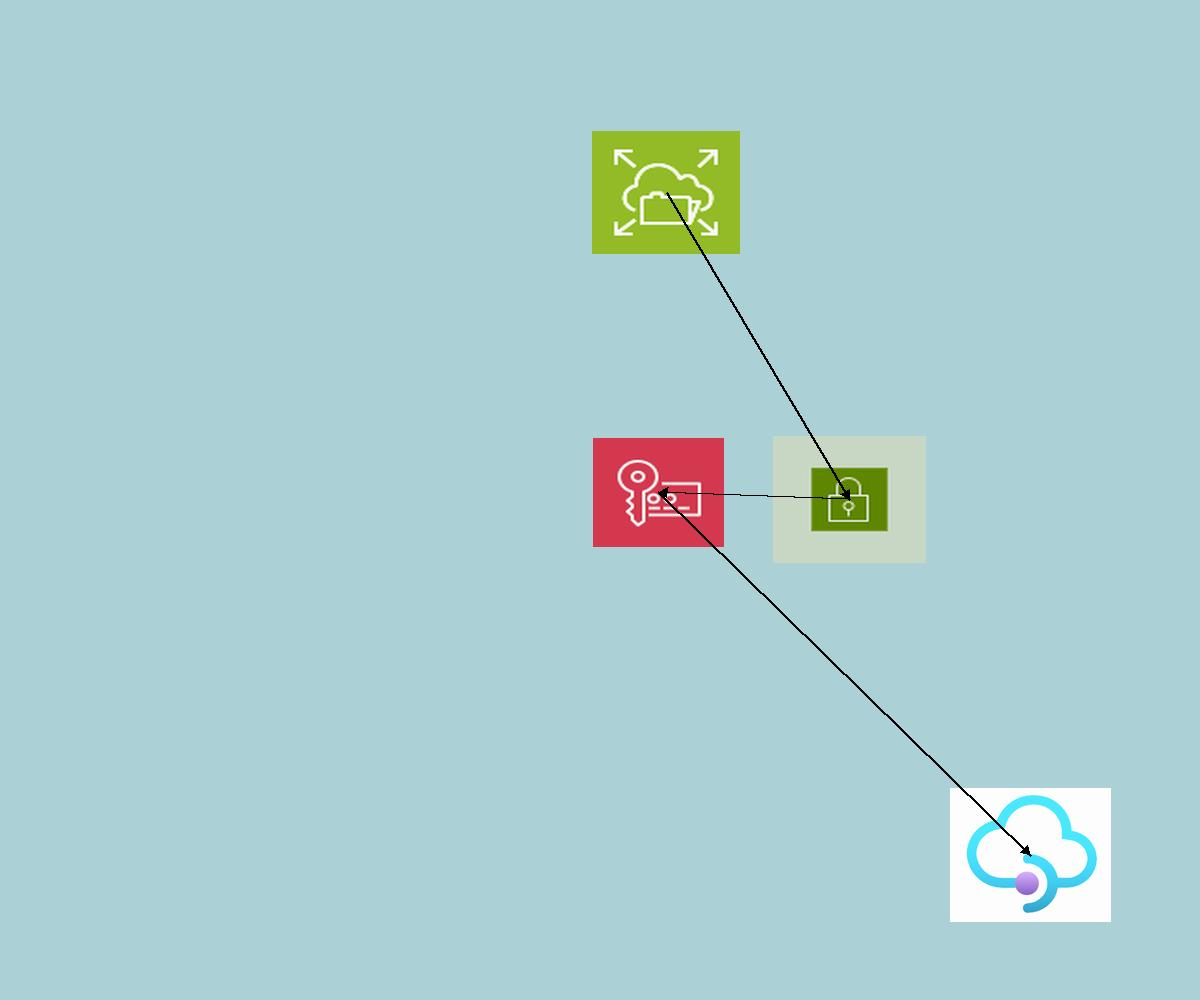AWS-EFS: (592, 131, 740, 254)
AWS-Key-Management-Service: (593, 438, 724, 547)
AWS-Public-subnet: (773, 436, 926, 563)
Azure_api_gateway: (950, 788, 1111, 922)
